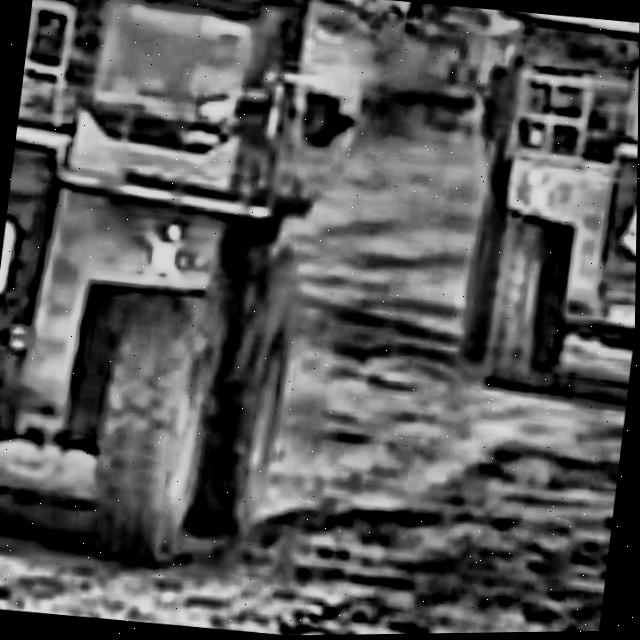dump_truck: (439, 9, 640, 420)
